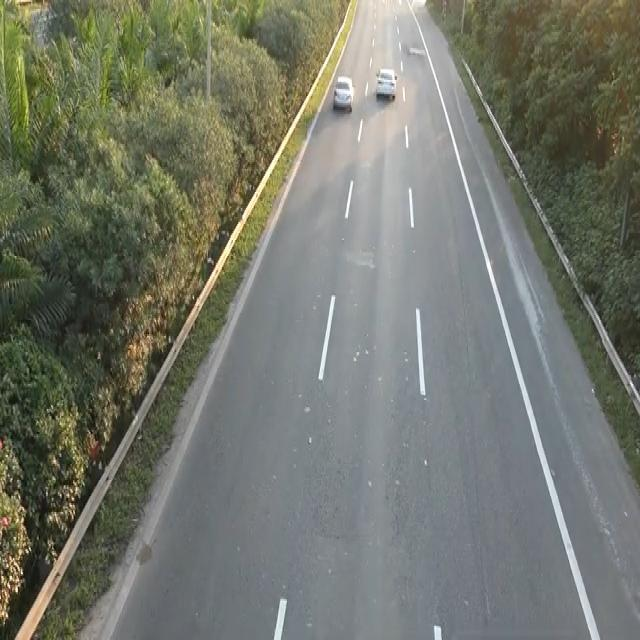bus: (373, 63, 400, 109), (331, 73, 354, 112)
